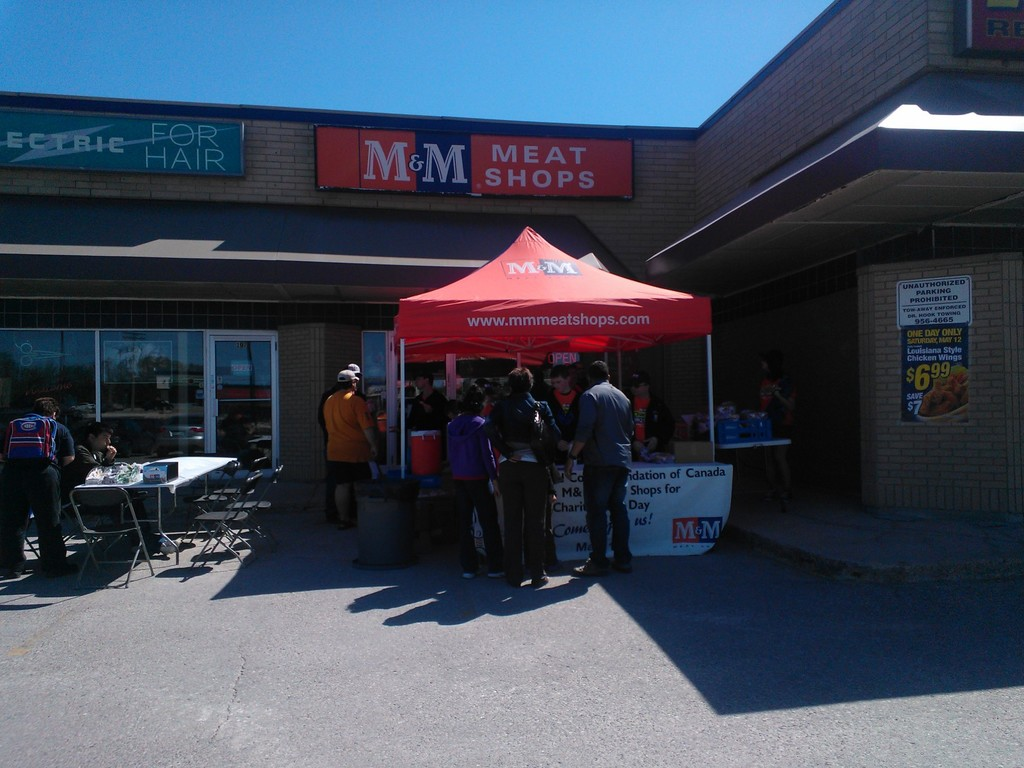Person: (317, 362, 677, 532), (486, 365, 564, 588), (562, 360, 636, 578), (67, 423, 184, 557), (0, 398, 76, 577), (445, 383, 505, 579), (756, 347, 797, 511)
